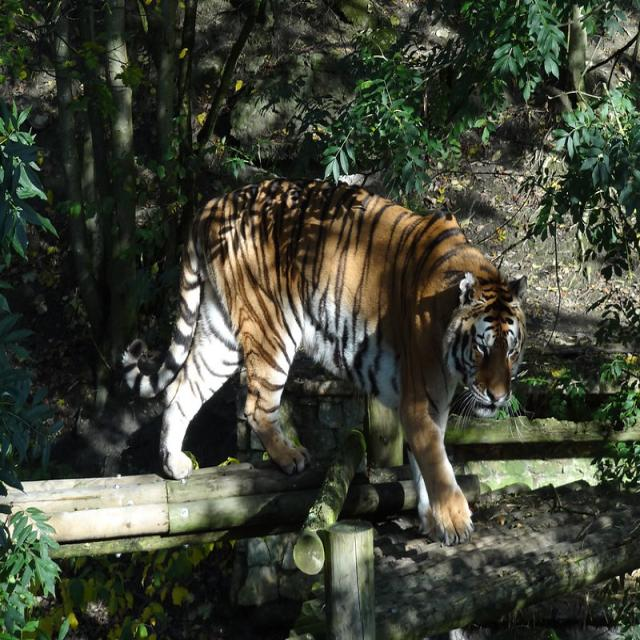Tiger: (121, 175, 532, 545)
